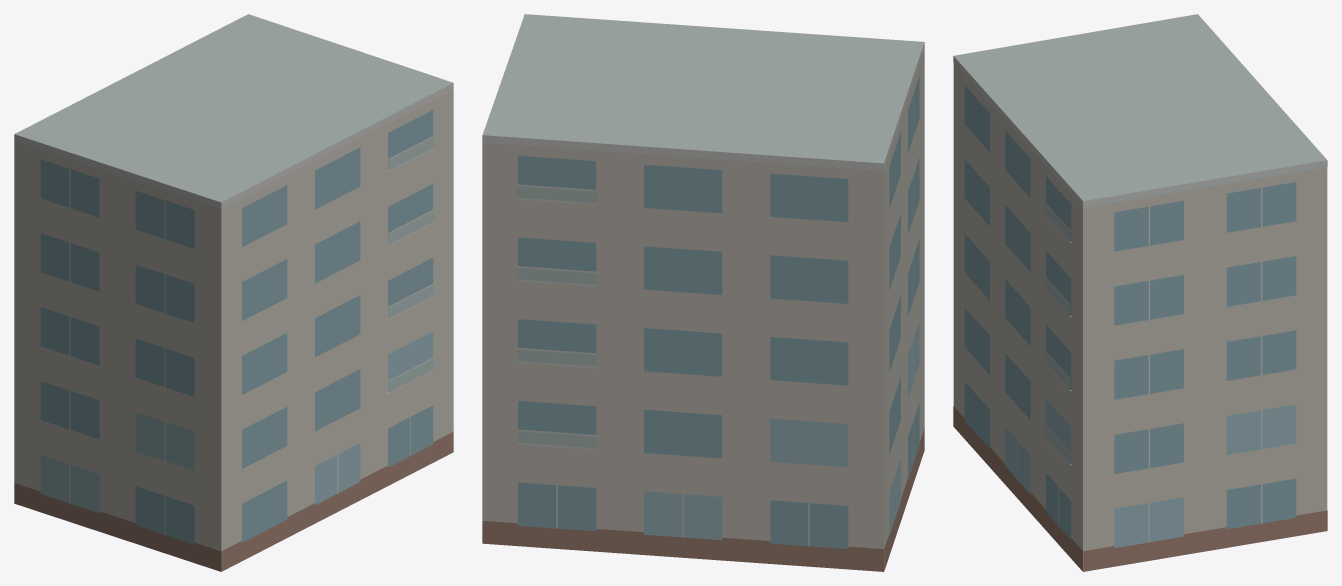
File: survey-upis-32944729.glb
3 views of the same model, side by side, from view 1: azimuth 30°, elevation 25°; view 2: azimuth 150°, elevation 25°; view 3: azimuth 270°, elevation 25° (orthographic). The views are drawn at different scales.
Parts seen in each view (by area): view 1: survey-upis-32944729.tmp; view 2: survey-upis-32944729.tmp; view 3: survey-upis-32944729.tmp.
Part boxes in pixels (x1,y1,x2,y2): survey-upis-32944729.tmp: (14, 14, 453, 571); survey-upis-32944729.tmp: (482, 14, 924, 571); survey-upis-32944729.tmp: (953, 14, 1327, 571).
Size of the model in its own units: 14.52 by 13.4 by 12.26.
